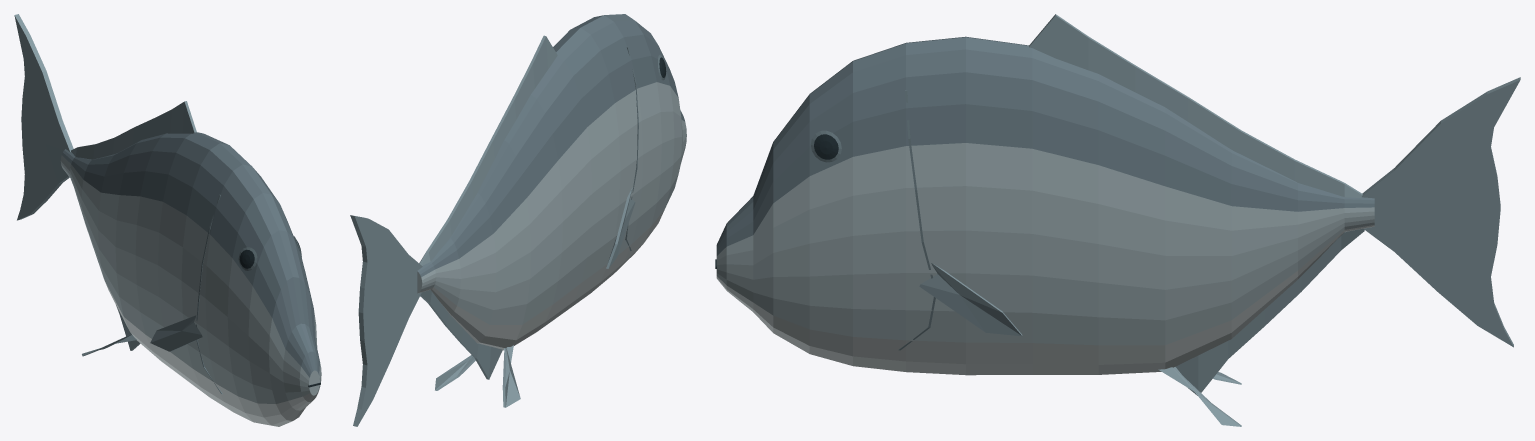
3 renders of one model, left to right at view 1: azimuth 30°, elevation 25°; view 2: azimuth 150°, elevation 25°; view 3: azimuth 270°, elevation 25°, orthographic. The views are drawn at different scales.
Visible parts, largest first — view 1: body-head-peduncle-loft, caudal-double-emarginate-fan, dorsal-low-strip, pectoral-left, eye-seated-left, gill-cover-transition-left; view 2: body-head-peduncle-loft, caudal-double-emarginate-fan, dorsal-low-strip, anal-low-strip, pelvic-left, pectoral-left, pelvic-right; view 3: body-head-peduncle-loft, caudal-double-emarginate-fan, dorsal-low-strip, anal-low-strip, pectoral-right, eye-seated-right, pelvic-right.
Part boxes in pixels (left/top/right/bottom): body-head-peduncle-loft: left=60, top=132, right=321, bottom=426; caudal-double-emarginate-fan: left=14, top=14, right=73, bottom=220; dorsal-low-strip: left=71, top=101, right=196, bottom=159; pectoral-left: left=150, top=315, right=202, bottom=351; eye-seated-left: left=238, top=247, right=257, bottom=270; gill-cover-transition-left: left=196, top=195, right=222, bottom=394; body-head-peduncle-loft: left=417, top=14, right=686, bottom=350; caudal-double-emarginate-fan: left=350, top=215, right=422, bottom=426; dorsal-low-strip: left=419, top=35, right=557, bottom=265; anal-low-strip: left=420, top=290, right=502, bottom=379; pelvic-left: left=502, top=345, right=520, bottom=407; pectoral-left: left=606, top=188, right=635, bottom=268; pelvic-right: left=435, top=355, right=475, bottom=390; body-head-peduncle-loft: left=716, top=36, right=1374, bottom=375; caudal-double-emarginate-fan: left=1362, top=77, right=1520, bottom=347; dorsal-low-strip: left=1029, top=14, right=1362, bottom=197; anal-low-strip: left=1176, top=228, right=1364, bottom=395; pectoral-right: left=919, top=263, right=1022, bottom=336; eye-seated-right: left=810, top=130, right=841, bottom=162; pelvic-right: left=1158, top=367, right=1241, bottom=426.
Bounding box in the file's own units: 0.0451 × 0.1295 × 0.2424.
